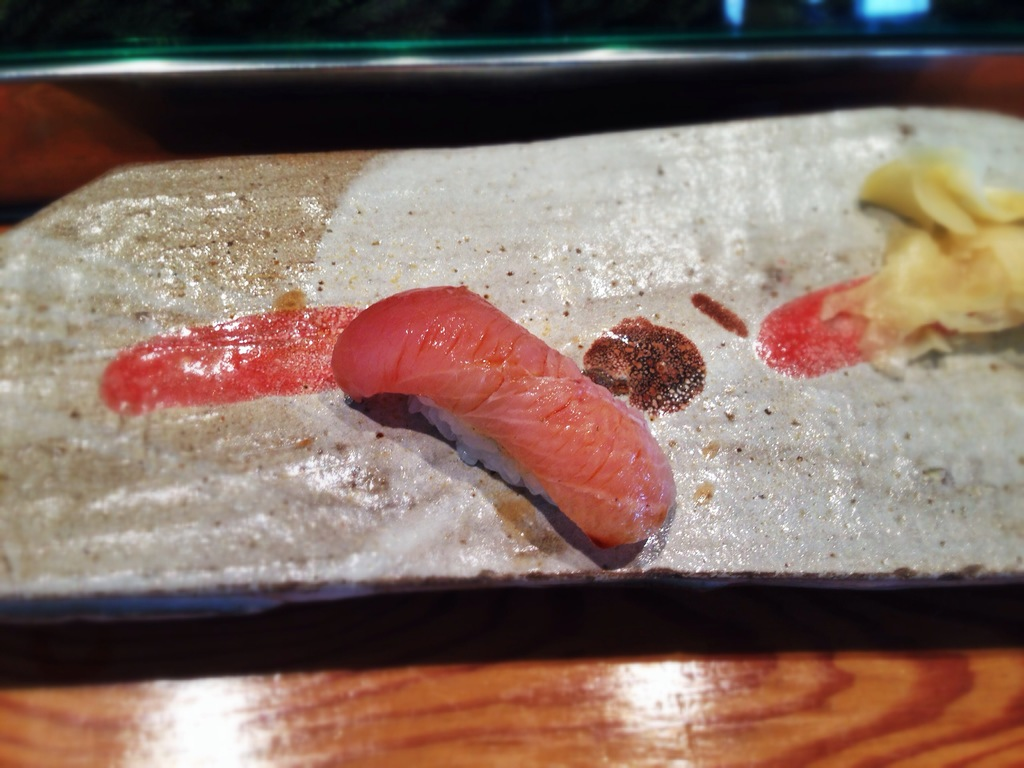sushi: (295, 289, 677, 559)
